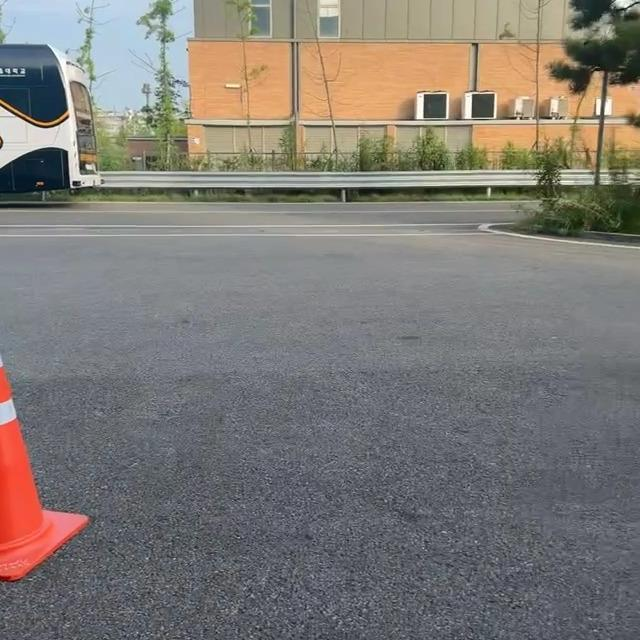fallen_object: (0, 300, 103, 639)
